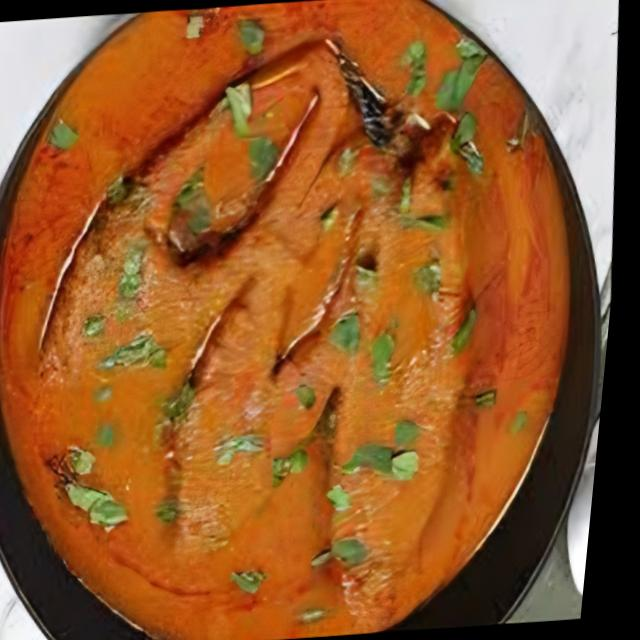FISH CURRY: (0, 0, 569, 640)
